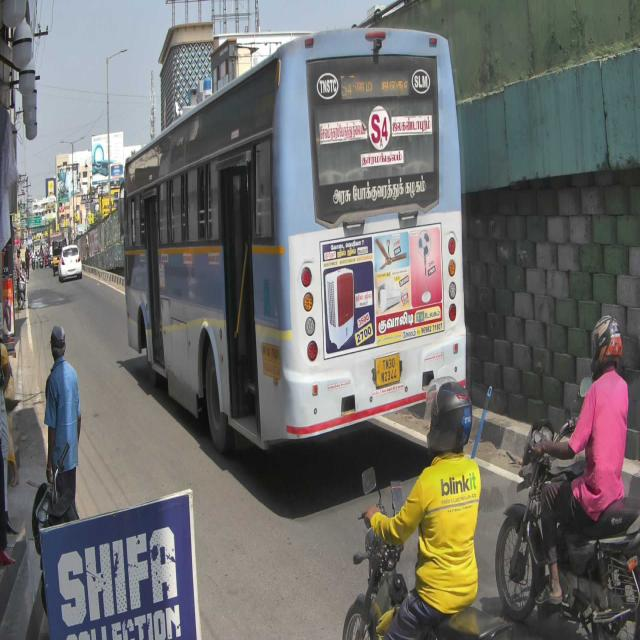single_rider: (492, 310, 640, 634)
